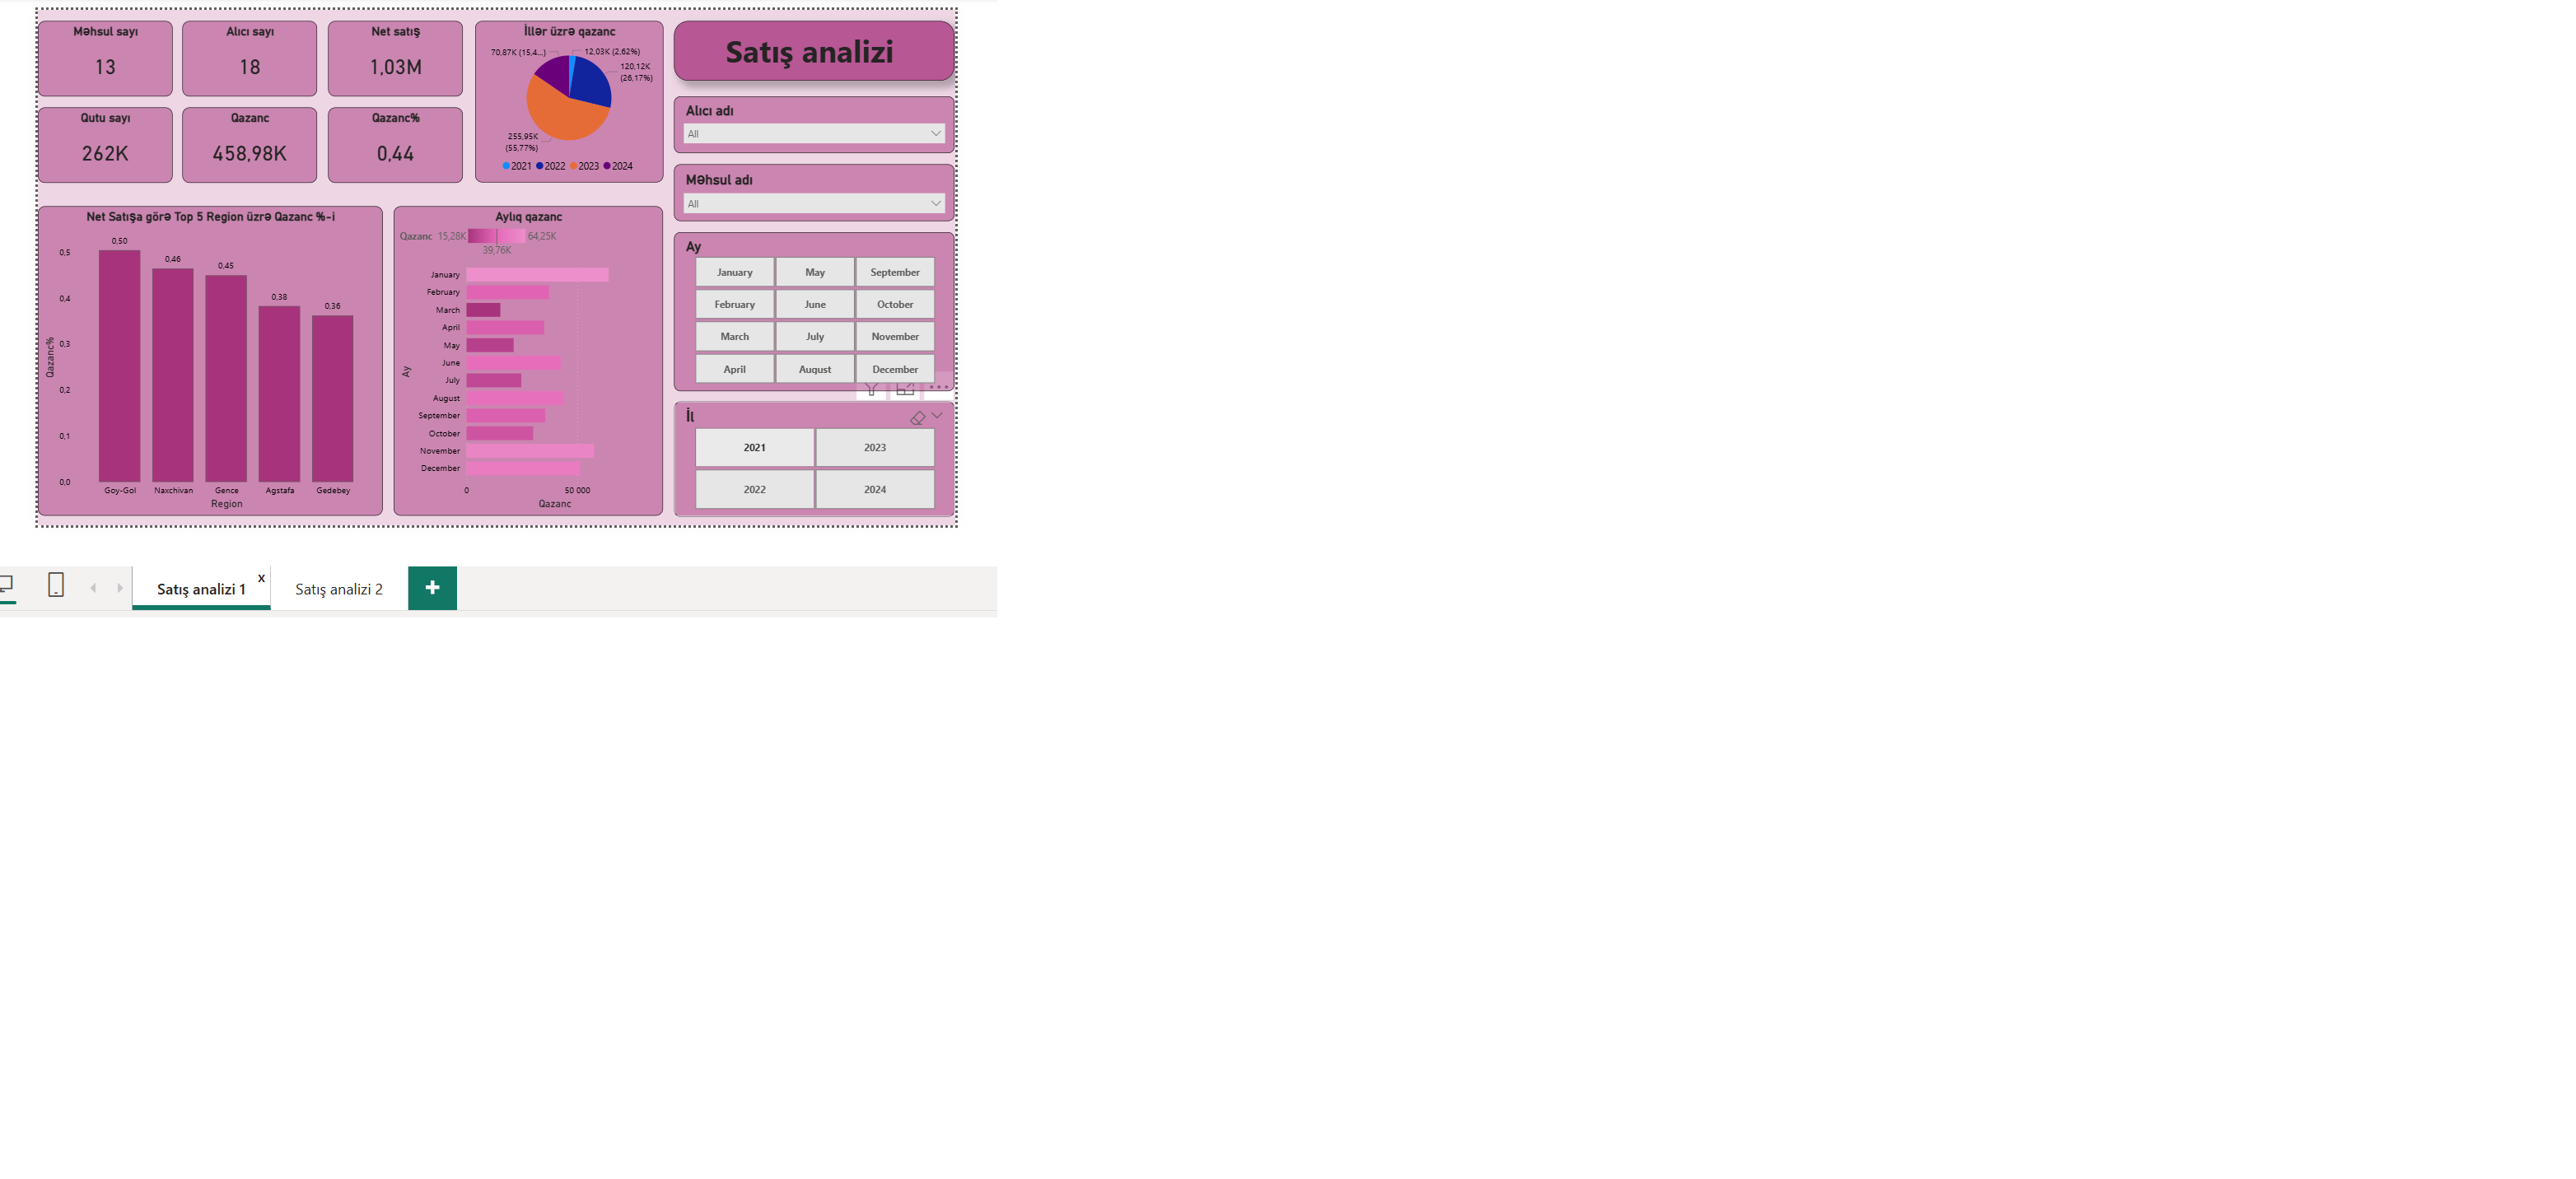

This screenshot's page, from the dashboard's own definition file:
{"tool":"powerbi","page":{"name":"Satış analizi 1","canvas":[1280,720],"ordinal":0},"visuals":[{"type":"slicer","fields":{"Values":["date.Date.Variation.Date Hierarchy.Year"]},"box":[888.1,545.8,391.5,161],"z":0},{"type":"slicer","fields":{"Values":["date.Date.Variation.Date Hierarchy.Month"]},"box":[888.1,310.2,391.5,222],"z":1000},{"type":"slicer","fields":{"Values":["Alıcı.Alıcı adı"]},"box":[888.1,120.3,391.5,79.7],"z":2000},{"type":"slicer","fields":{"Values":["Məhsul.Məhsul"]},"box":[888.1,215.3,391.5,79.7],"z":3000},{"type":"card","title":"Məhsul sayı","fields":{"Values":["Hesablama.Məhsul_sayı"]},"box":[0,15.3,188.1,105.1],"z":4000},{"type":"card","title":"Alıcı sayı","fields":{"Values":["Hesablama.Alıcı_sayı"]},"box":[201.7,15.3,188.1,105.1],"z":5000},{"type":"card","title":"Net satış","fields":{"Values":["Hesablama.Net_satış"]},"box":[405.1,15.3,188.1,105.1],"z":6000},{"type":"card","title":"Qutu sayı","fields":{"Values":["Hesablama.Qutu_sayı"]},"box":[0,135.6,188.1,105.1],"z":7000},{"type":"card","title":"Qazanc","fields":{"Values":["Hesablama.Qazanc"]},"box":[201.7,135.6,188.1,105.1],"z":8000},{"type":"card","title":"Qazanc%","fields":{"Values":["Hesablama.Qazanc%"]},"box":[405.1,135.6,188.1,105.1],"z":9000},{"type":"columnChart","title":"Net Satışa görə Top 5 Region üzrə Qazanc %-i","fields":{"Y":["Hesablama.Qazanc%"],"Category":["Region.Region"]},"box":[0,274.6,481.4,432.2],"z":10000},{"type":"barChart","title":"Aylıq qazanc","fields":{"Category":["date.Date.Variation.Date Hierarchy.Month"],"Y":["Hesablama.Qazanc"]},"box":[496.6,274.6,376.3,432.2],"z":11000},{"type":"textbox","box":[888.1,15.3,391.5,83.1],"z":12000},{"type":"pieChart","title":"İllər üzrə qazanc","fields":{"Y":["Hesablama.Qazanc"],"Category":["date.Date.Variation.Date Hierarchy.Year"]},"box":[610.2,15.3,262.7,225.4],"z":13000}]}

Visuals, with their boxes on the page's 1280x720 design canvas (x1, y1, x2, y2). These are canvas units, not pixel positions in the 2576x1179 screenshot, which may show the page scaled, cropped or inside an application window:
slicer - date.Date.Variation.Date Hierarchy.Year: [888, 546, 1280, 707]
slicer - date.Date.Variation.Date Hierarchy.Month: [888, 310, 1280, 532]
slicer - Alıcı.Alıcı adı: [888, 120, 1280, 200]
slicer - Məhsul.Məhsul: [888, 215, 1280, 295]
"Məhsul sayı" card: [0, 15, 188, 120]
"Alıcı sayı" card: [202, 15, 390, 120]
"Net satış" card: [405, 15, 593, 120]
"Qutu sayı" card: [0, 136, 188, 241]
"Qazanc" card: [202, 136, 390, 241]
"Qazanc%" card: [405, 136, 593, 241]
"Net Satışa görə Top 5 Region üzrə Qazanc %-i" columnChart: [0, 275, 481, 707]
"Aylıq qazanc" barChart: [497, 275, 873, 707]
textbox: [888, 15, 1280, 98]
"İllər üzrə qazanc" pieChart: [610, 15, 873, 241]
